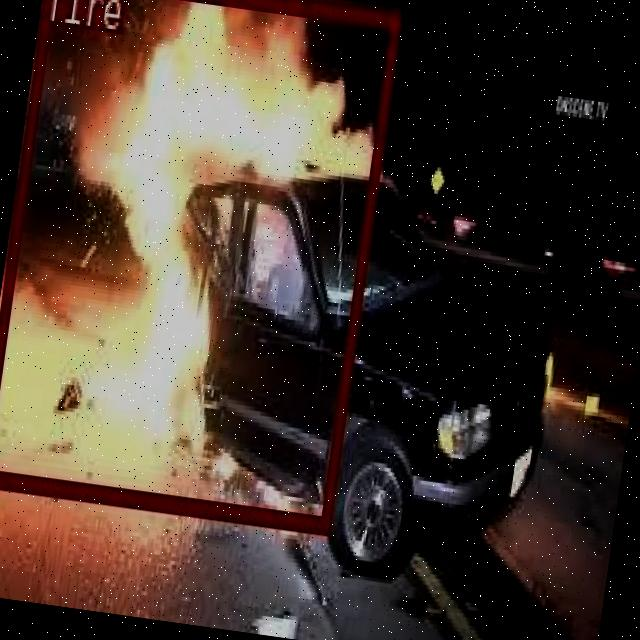fire: (0, 0, 401, 531)
